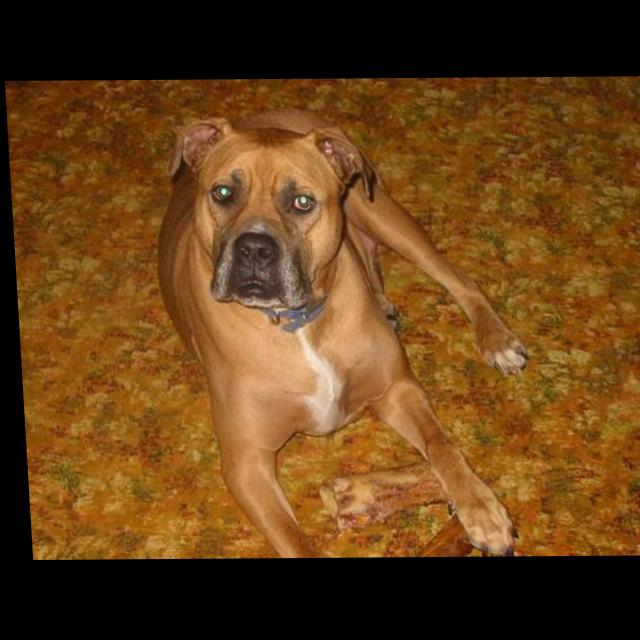bullmastiff: (145, 105, 534, 559)
